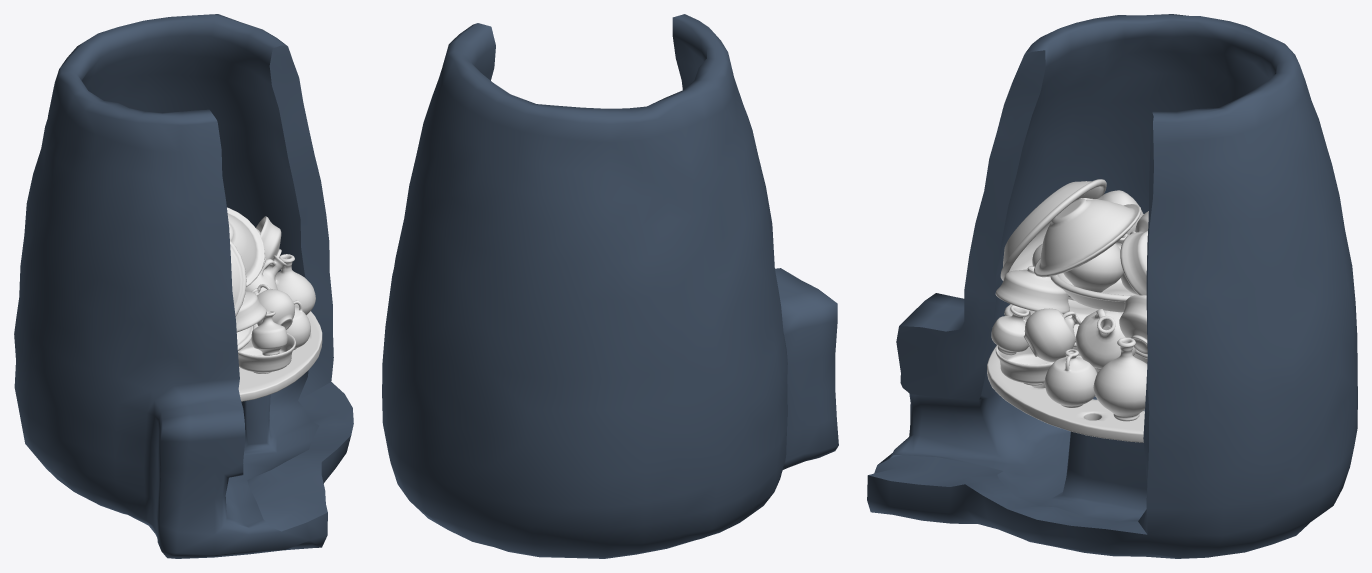
The model's file is [19_0380]_Brennofen_Cutaway__00.fbx.
3 renders of one model, left to right at view 1: azimuth 30°, elevation 25°; view 2: azimuth 150°, elevation 25°; view 3: azimuth 270°, elevation 25°, orthographic. The views are drawn at different scales.
Visible parts, largest first — view 1: Brennofen_Cutaway, Lochtenne, Schuessel_Groß.003, Schuessel_Klein.001, Krug_Einhalb, Krug_Einachtel.001, Krug_Einviertel.001, Schale_Niedrig.003, Schuessel_Klein.004, Schuessel_Klein.006, Krug_Dreiachtel.001, Krug_Einviertel; view 2: Brennofen_Cutaway; view 3: Brennofen_Cutaway, Schuessel_Groß.003, Lochtenne, Schale_Niedrig.003, Krug_Einhalb, Krug_Einviertel.001, Schuessel_Klein.004, Krug_Einviertel, Krug_Dreiachtel.001, Krug_Einhalb.002, Schale_Niedrig.002, Schuessel_Klein.003 (+3 smaller).
Boxes of the visible parts, x1=… form: Brennofen_Cutaway: x1=14, y1=14, x2=353, y2=558; Lochtenne: x1=238, y1=311, x2=322, y2=401; Schuessel_Groß.003: x1=227, y1=207, x2=264, y2=286; Schuessel_Klein.001: x1=238, y1=333, x2=295, y2=373; Krug_Einhalb: x1=275, y1=254, x2=315, y2=314; Krug_Einachtel.001: x1=251, y1=311, x2=287, y2=355; Krug_Einviertel.001: x1=251, y1=284, x2=294, y2=329; Schale_Niedrig.003: x1=230, y1=240, x2=246, y2=316; Schuessel_Klein.004: x1=235, y1=291, x2=266, y2=332; Schuessel_Klein.006: x1=256, y1=216, x2=281, y2=268; Krug_Dreiachtel.001: x1=246, y1=255, x2=286, y2=293; Krug_Einviertel: x1=286, y1=300, x2=310, y2=350; Brennofen_Cutaway: x1=382, y1=14, x2=838, y2=558; Brennofen_Cutaway: x1=867, y1=14, x2=1357, y2=558; Schuessel_Groß.003: x1=1034, y1=198, x2=1140, y2=277; Lochtenne: x1=987, y1=345, x2=1144, y2=442; Schale_Niedrig.003: x1=1000, y1=179, x2=1106, y2=280; Krug_Einhalb: x1=1093, y1=337, x2=1147, y2=421; Krug_Einviertel.001: x1=1023, y1=308, x2=1081, y2=361; Schuessel_Klein.004: x1=995, y1=266, x2=1069, y2=314; Krug_Einviertel: x1=1044, y1=349, x2=1097, y2=407; Krug_Dreiachtel.001: x1=1075, y1=309, x2=1136, y2=368; Krug_Einhalb.002: x1=1063, y1=243, x2=1123, y2=292; Schale_Niedrig.002: x1=1050, y1=273, x2=1146, y2=312; Schuessel_Klein.003: x1=1120, y1=231, x2=1147, y2=295.
Size of the model in its own units: 363 by 470 by 463.
